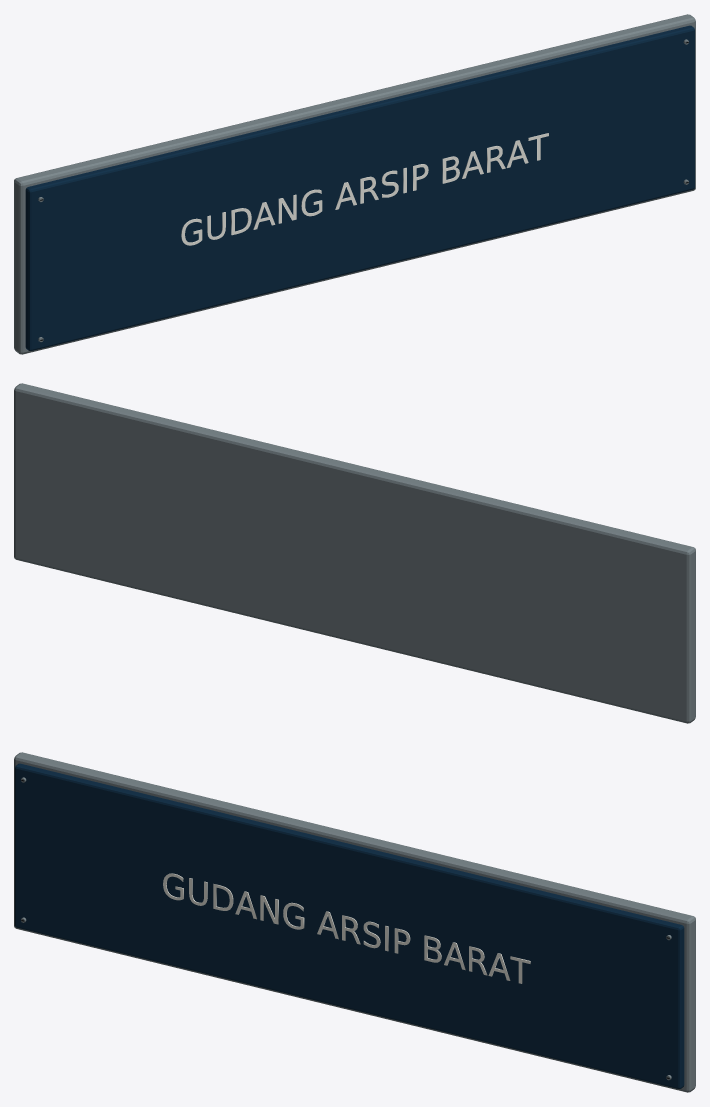
Rendered from OAA_Papan_Ruang_Gudang_Arsip_Barat.fbx.
3 views of the same model, one above another, from view 1: azimuth 30°, elevation 25°; view 2: azimuth 150°, elevation 25°; view 3: azimuth 330°, elevation 25° (orthographic).
Parts seen in each view (by area): view 1: Body; view 2: Body; view 3: Body.
Part boxes in pixels (bbox=[...]): Body: bbox=[14, 14, 695, 354]; Body: bbox=[14, 383, 695, 723]; Body: bbox=[14, 752, 695, 1092].
Bounding box in the file's own units: 0.9 × 0.22 × 0.0312.
